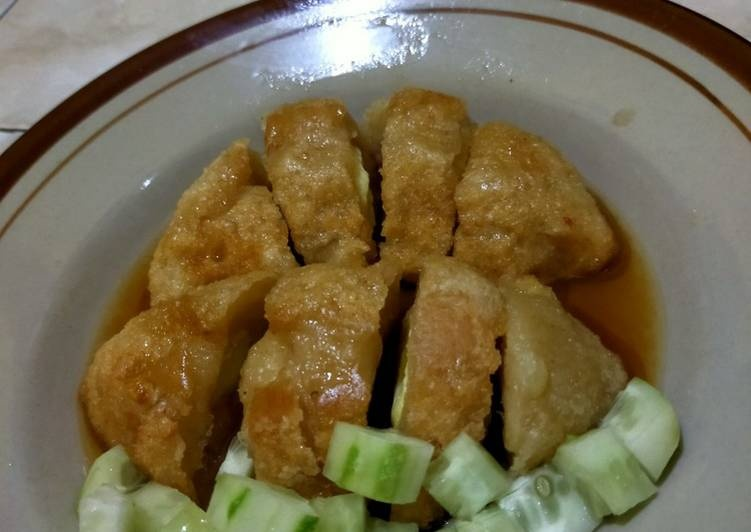pempek: (84, 96, 628, 524)
